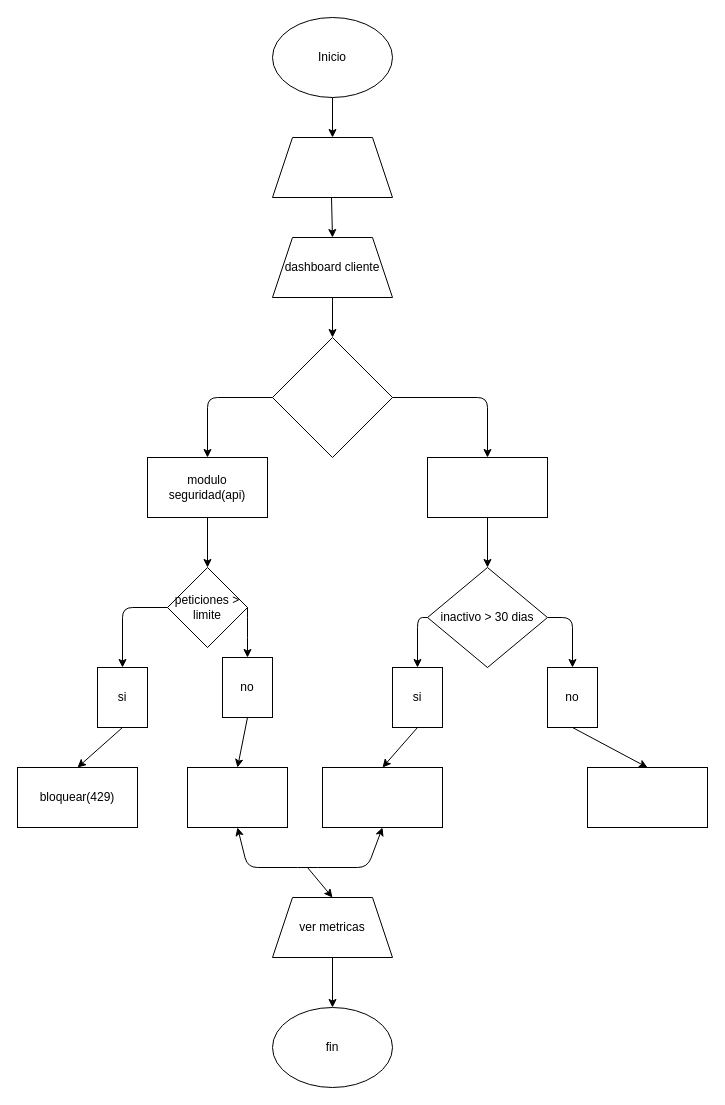
This 725x1105 diagram has some shape labels left out. Each missing label, with the centre of its shape:
calcular ahorro: the point at 382,797
inicio sesion: the point at 332,167
modulo finops/costos: the point at 487,487
permitir: the point at 237,797
que modulo se usara: the point at 332,397
sin cambios: the point at 647,797
